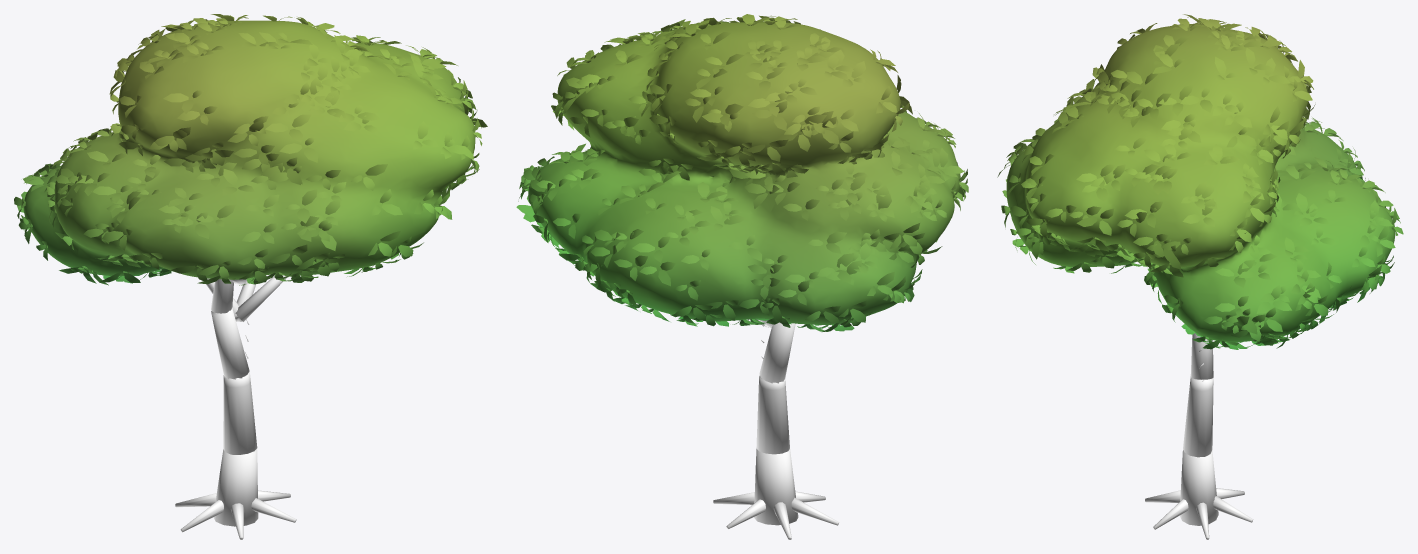
Rendered from beech_canopy_5.glb.
The picture shows the model from 3 angles, left to right: view 1: azimuth 30°, elevation 25°; view 2: azimuth 150°, elevation 25°; view 3: azimuth 270°, elevation 25°; orthographic projection. The views are drawn at different scales.
Visible parts, largest first — view 1: beech_canopy_5_Leaves, beech_canopy_5_Bark, beech_canopy_5_UpperBranches; view 2: beech_canopy_5_Leaves, beech_canopy_5_Bark, beech_canopy_5_UpperBranches; view 3: beech_canopy_5_Leaves, beech_canopy_5_Bark, beech_canopy_5_UpperBranches.
Boxes of the visible parts, x1,y1,x2,y2 form: beech_canopy_5_Leaves: (14,14,487,285); beech_canopy_5_Bark: (175,382,296,539); beech_canopy_5_UpperBranches: (206,275,286,387); beech_canopy_5_Leaves: (516,14,968,331); beech_canopy_5_Bark: (713,385,838,539); beech_canopy_5_UpperBranches: (749,319,795,390); beech_canopy_5_Leaves: (997,14,1403,349); beech_canopy_5_Bark: (1145,386,1253,539); beech_canopy_5_UpperBranches: (1189,333,1213,391).
Bounding box in the file's own units: 12.89 × 15.08 × 11.58.
